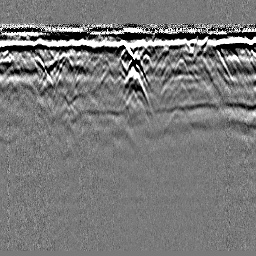cavity: (120, 44, 136, 60)
